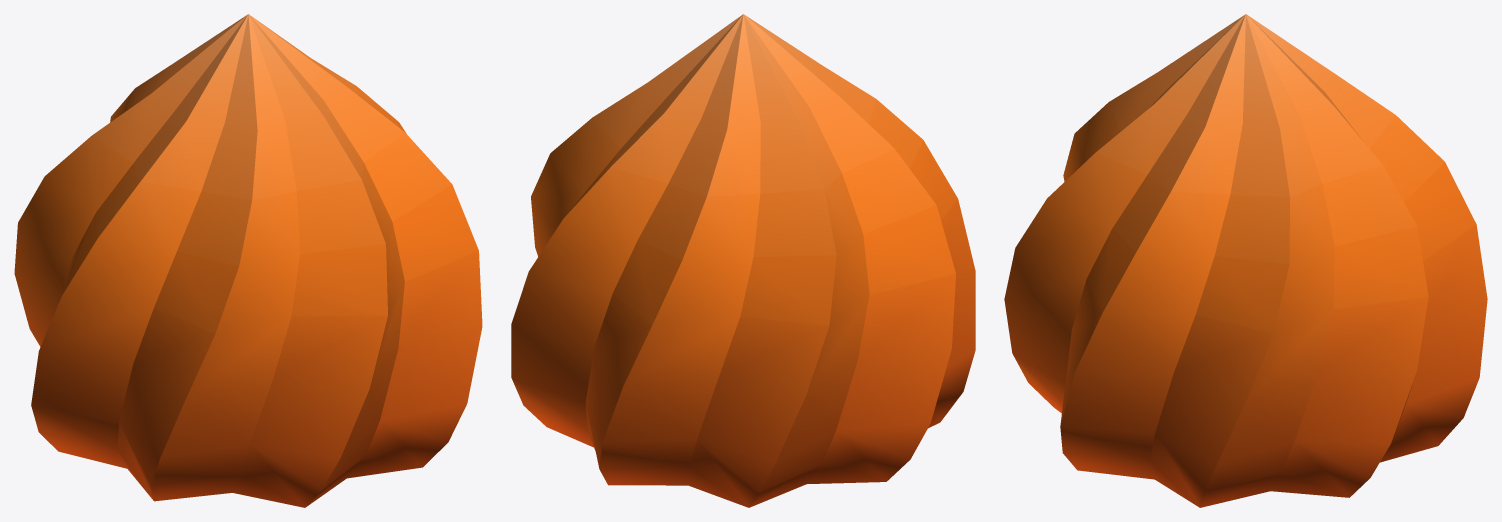
File: Fireplace_fire_001.fbx
3 renders of one model, left to right at view 1: azimuth 30°, elevation 25°; view 2: azimuth 150°, elevation 25°; view 3: azimuth 270°, elevation 25°, orthographic.
Parts seen in each view (by area): view 1: Fireplace_fire_001; view 2: Fireplace_fire_001; view 3: Fireplace_fire_001.
Part boxes in pixels (x1,y1,x2,y2): Fireplace_fire_001: [14, 14, 482, 507]; Fireplace_fire_001: [511, 14, 975, 507]; Fireplace_fire_001: [1004, 14, 1487, 507].
Size of the model in its own units: 0.5395 by 0.5217 by 0.5395.
